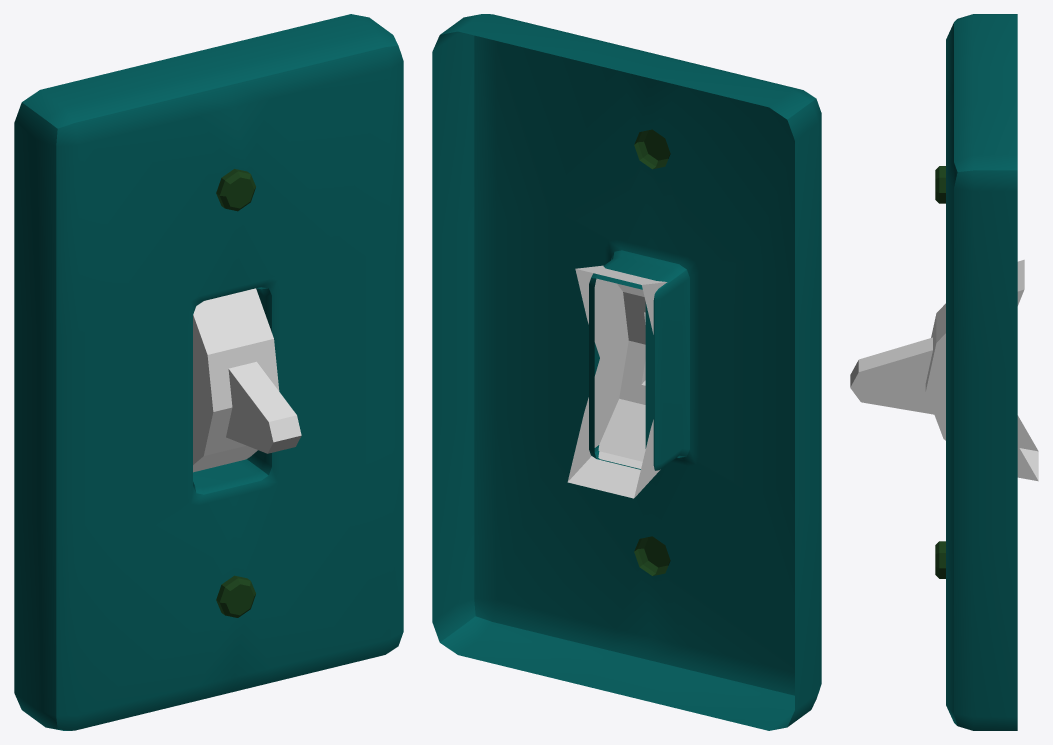
The model's file is lightswitch.fbx.
The picture shows the model from 3 angles, left to right: view 1: azimuth 30°, elevation 25°; view 2: azimuth 150°, elevation 25°; view 3: azimuth 270°, elevation 25°; orthographic projection. The views are drawn at different scales.
Parts seen in each view (by area): view 1: lightswitchbase, lightswitch; view 2: lightswitchbase, lightswitch; view 3: lightswitchbase, lightswitch.
Boxes of the visible parts, <box> form: lightswitchbase: <box>14,14,403,730</box>; lightswitch: <box>193,288,301,472</box>; lightswitchbase: <box>432,14,821,730</box>; lightswitch: <box>567,265,667,498</box>; lightswitchbase: <box>935,14,1017,730</box>; lightswitch: <box>850,259,1038,481</box>.
Size of the model in its own units: 1.86 by 3.05 by 0.9067.
